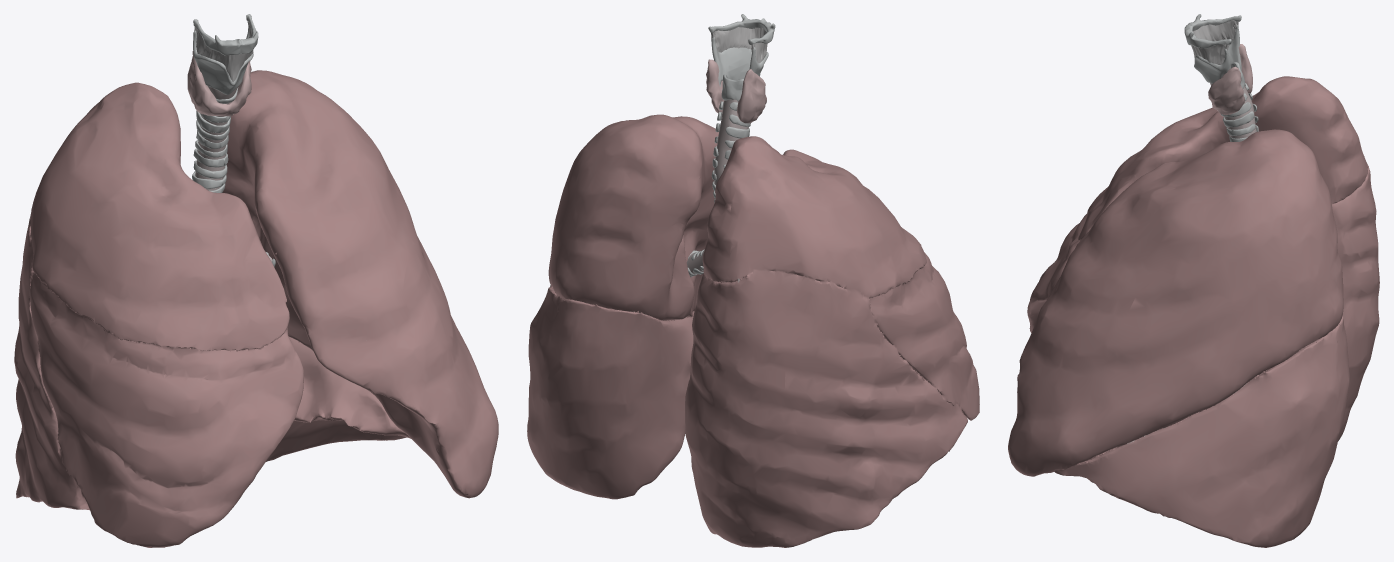
File: lung-transparent.glb
The picture shows the model from 3 angles, left to right: view 1: azimuth 30°, elevation 25°; view 2: azimuth 150°, elevation 25°; view 3: azimuth 270°, elevation 25°; orthographic projection. The views are drawn at different scales.
Visible parts, largest first — view 1: Linkerlong., HyoidBone., TracheaKraakbeen., ThyroidGland., TussenHyoidThyroid., Bronchi.; view 2: Linkerlong., HyoidBone., ThyroidGland., Bronchi., TussenHyoidThyroid., TracheaKraakbeen.; view 3: Linkerlong., HyoidBone., ThyroidGland., TussenHyoidThyroid., TracheaKraakbeen., Bronchi..
Boxes of the visible parts, x1,y1,x2,y2 form: Linkerlong.: (14, 70, 498, 547); HyoidBone.: (193, 14, 258, 103); TracheaKraakbeen.: (192, 110, 275, 266); ThyroidGland.: (187, 51, 251, 116); TussenHyoidThyroid.: (194, 21, 253, 81); Bronchi.: (195, 86, 272, 261); Linkerlong.: (527, 114, 979, 547); HyoidBone.: (708, 14, 775, 101); ThyroidGland.: (706, 59, 766, 123); Bronchi.: (633, 99, 748, 317); TussenHyoidThyroid.: (711, 27, 767, 62); TracheaKraakbeen.: (630, 101, 750, 312); Linkerlong.: (1008, 76, 1379, 547); HyoidBone.: (1184, 14, 1244, 88); ThyroidGland.: (1208, 44, 1252, 114); TussenHyoidThyroid.: (1191, 20, 1238, 64); TracheaKraakbeen.: (1163, 83, 1258, 428); Bronchi.: (1127, 83, 1256, 444).
Bounding box in the file's own units: 0.2972 × 0.3389 × 0.2534.
